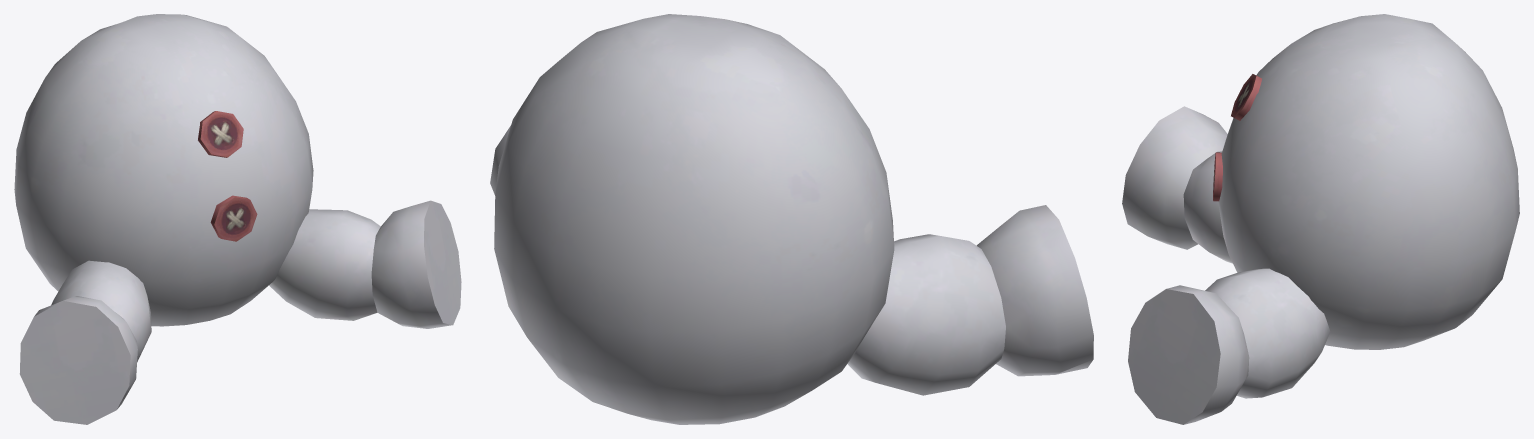
The model's file is Homeworld_Exterior_Common_Prop_Thing_SnowmanBody_01_Vo.fbx.
3 renders of one model, left to right at view 1: azimuth 30°, elevation 25°; view 2: azimuth 150°, elevation 25°; view 3: azimuth 270°, elevation 25°, orthographic. The views are drawn at different scales.
Visible parts, largest first — view 1: Homeworld_Exterior_Common_Prop_Thing_SnowmanBody_01_Vo; view 2: Homeworld_Exterior_Common_Prop_Thing_SnowmanBody_01_Vo; view 3: Homeworld_Exterior_Common_Prop_Thing_SnowmanBody_01_Vo.
Part boxes in pixels (x1,y1,x2,y2): Homeworld_Exterior_Common_Prop_Thing_SnowmanBody_01_Vo: [14, 14, 461, 424]; Homeworld_Exterior_Common_Prop_Thing_SnowmanBody_01_Vo: [490, 14, 1093, 424]; Homeworld_Exterior_Common_Prop_Thing_SnowmanBody_01_Vo: [1122, 14, 1519, 424].
Size of the model in its own units: 1.4 by 0.8293 by 1.01.
